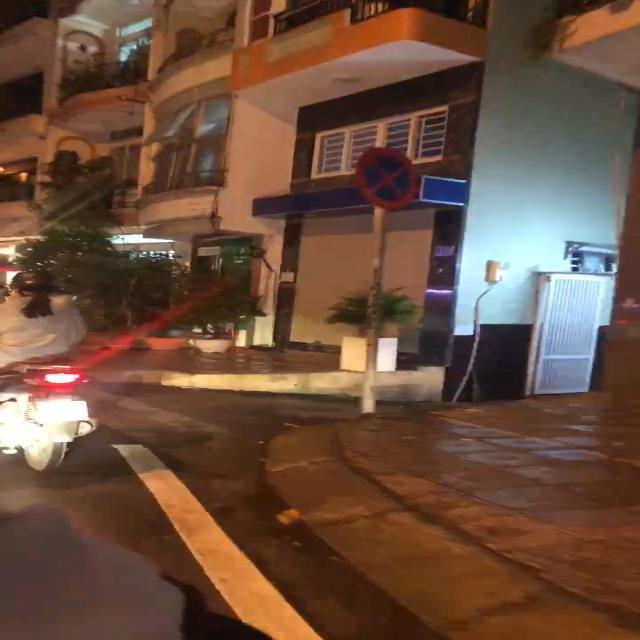Bien bao cam dung xe va do xe: (345, 143, 426, 208)
